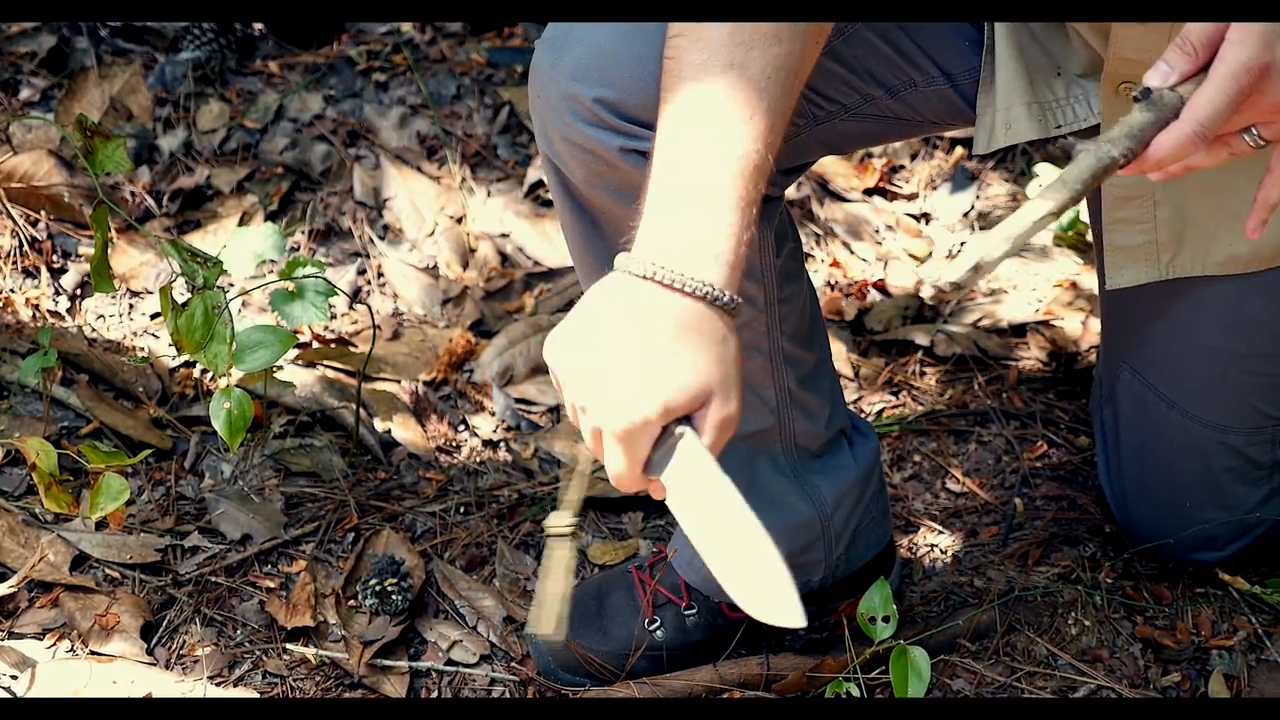knife: (553, 369, 825, 643)
